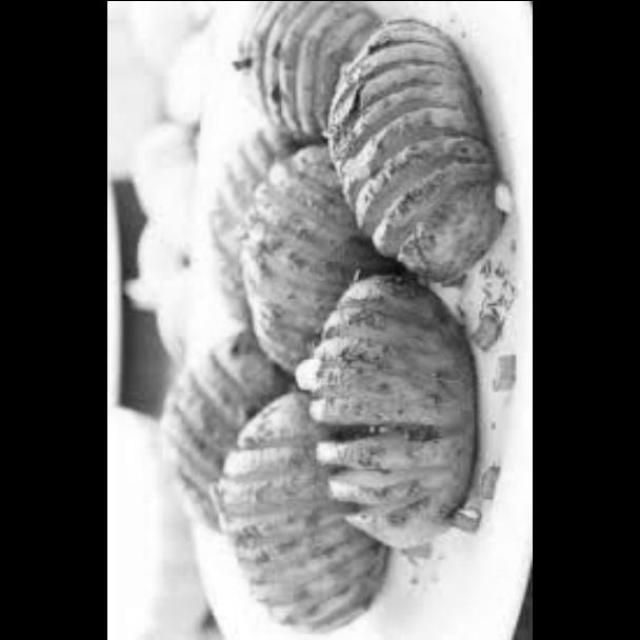khoai tay: (309, 264, 483, 559), (325, 13, 504, 290), (205, 378, 378, 640), (234, 127, 358, 393), (155, 328, 279, 546), (203, 127, 313, 336), (230, 0, 370, 143)
